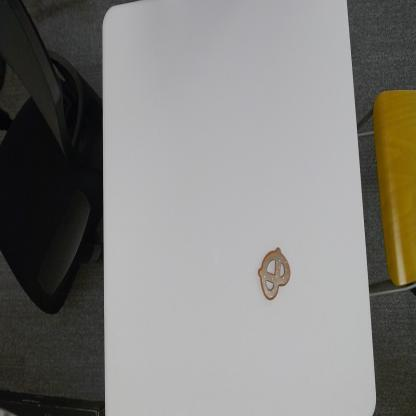Pretzel: (258, 245, 291, 302)
